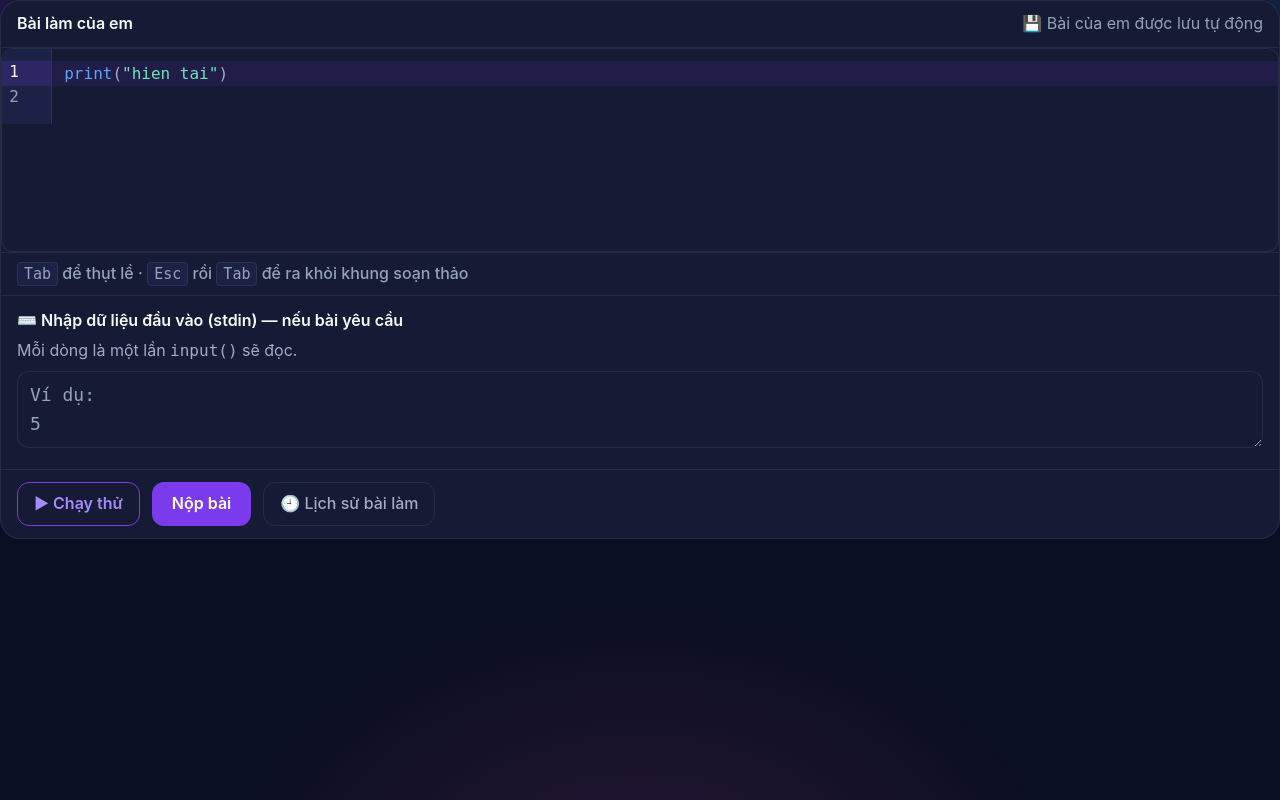
Test: Khu làm bài › nộp bài lưu bản nháp trước rồi mới gửi
Click the button "Nộp bài".
click(202, 504)  # box [152,482,251,526]
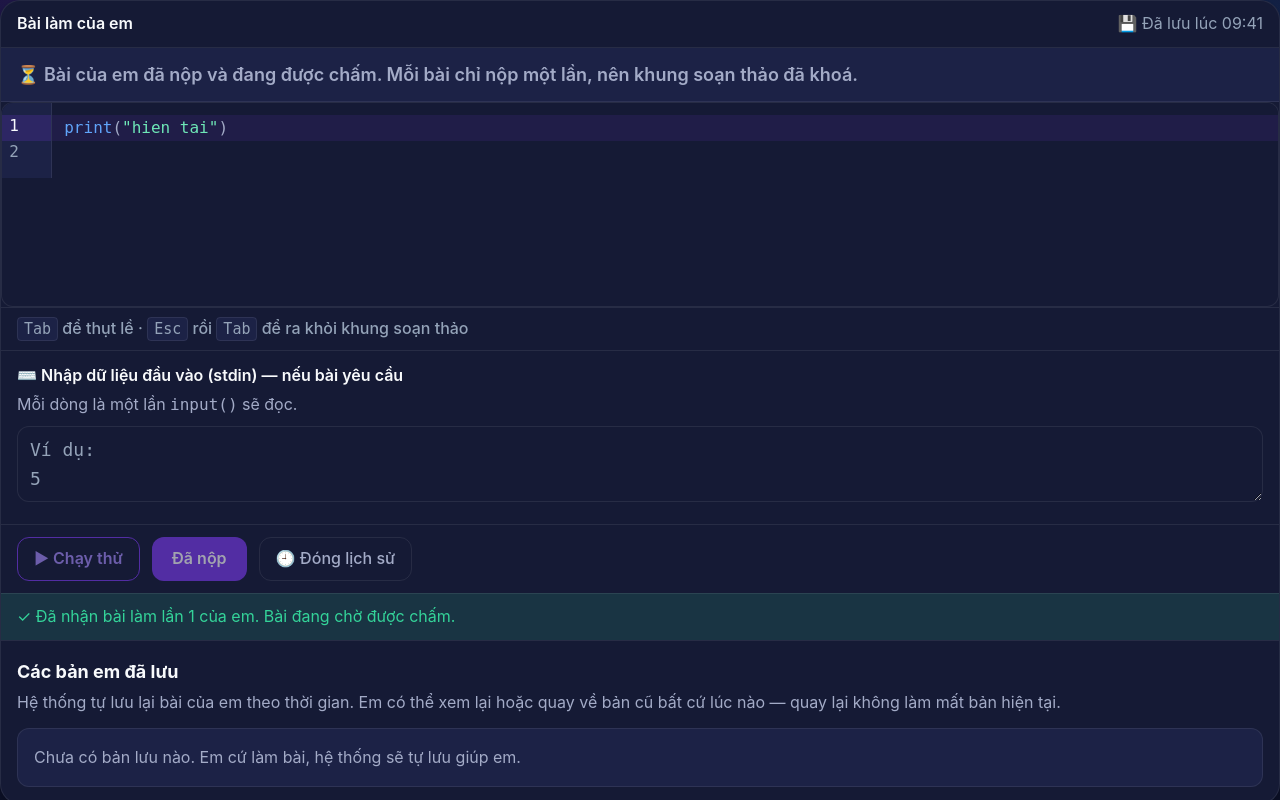
Check: the text "✓ Đã nhận bài làm lần 1 của em. Bài đang chờ được chấm." is shown, box [1,593,1279,640]
